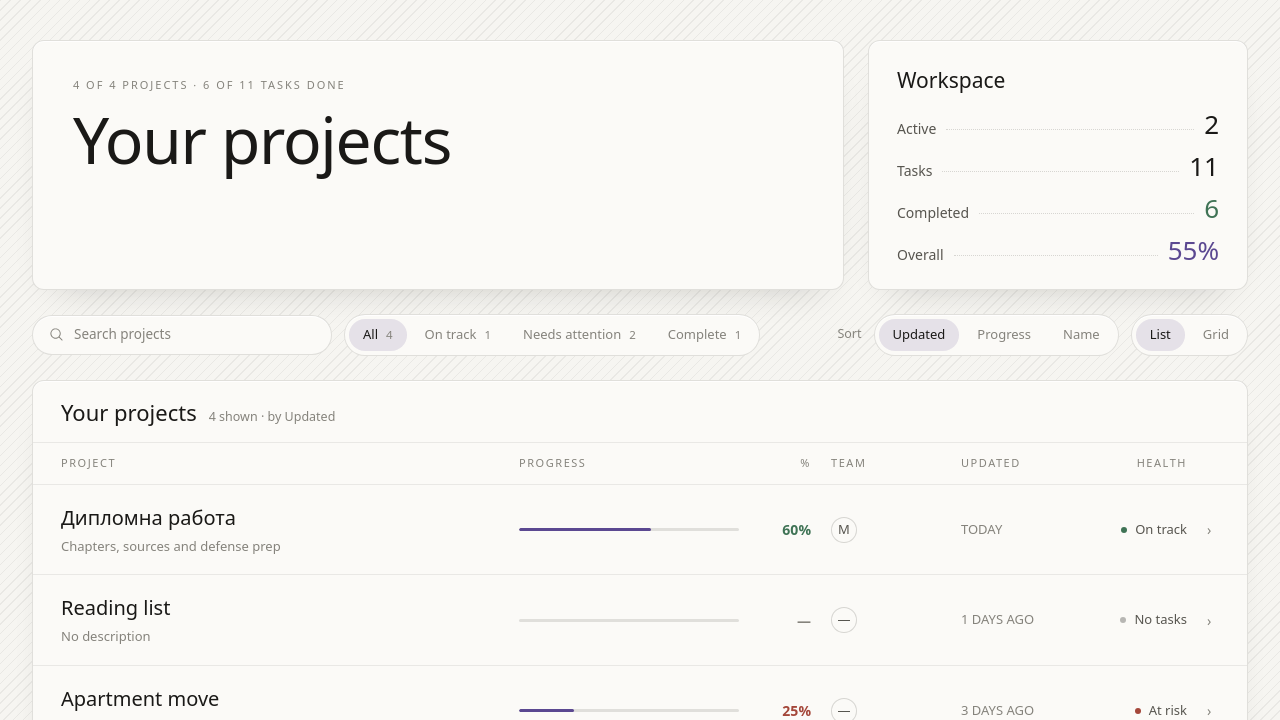
Test: ProjectsWorkspace — detail › opens a project in place and can go back
Click the button "Дипломна работа": [149, 517] box [61, 503, 499, 533]
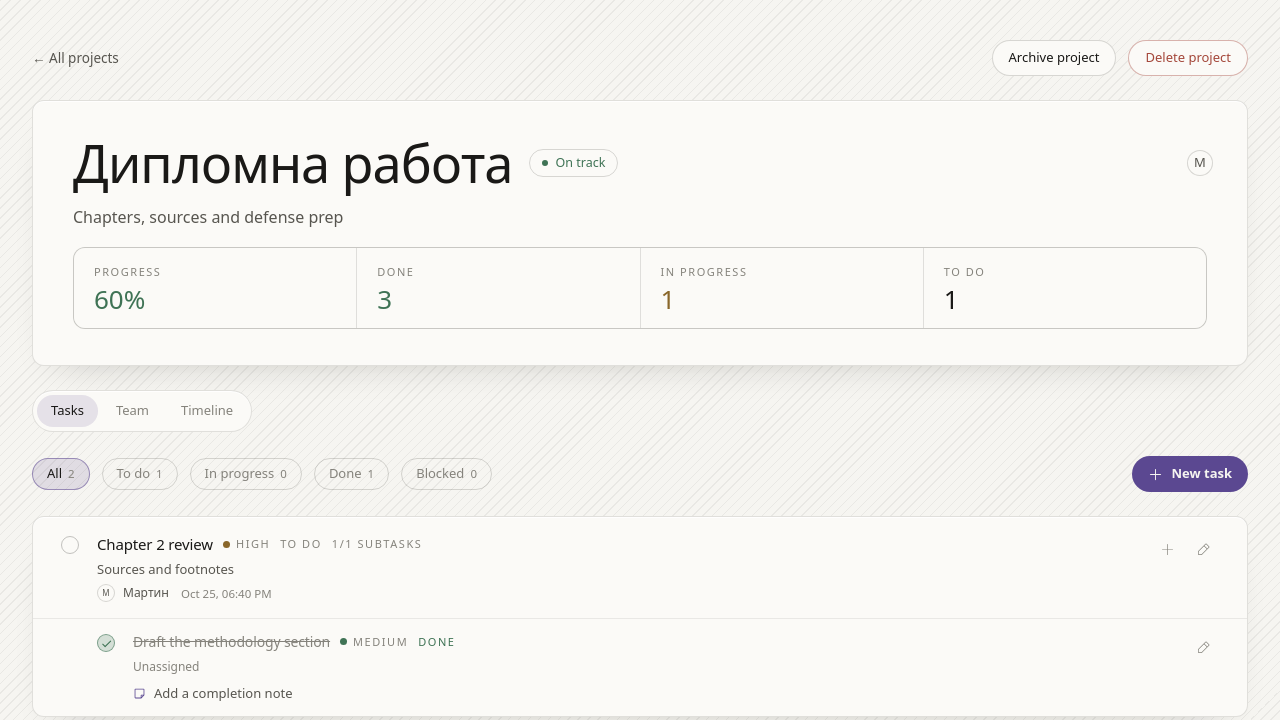
expect the heading "Дипломна работа" is shown: met, box [73, 137, 512, 189]
Click the button "← All projects": [75, 58] box [32, 48, 119, 68]
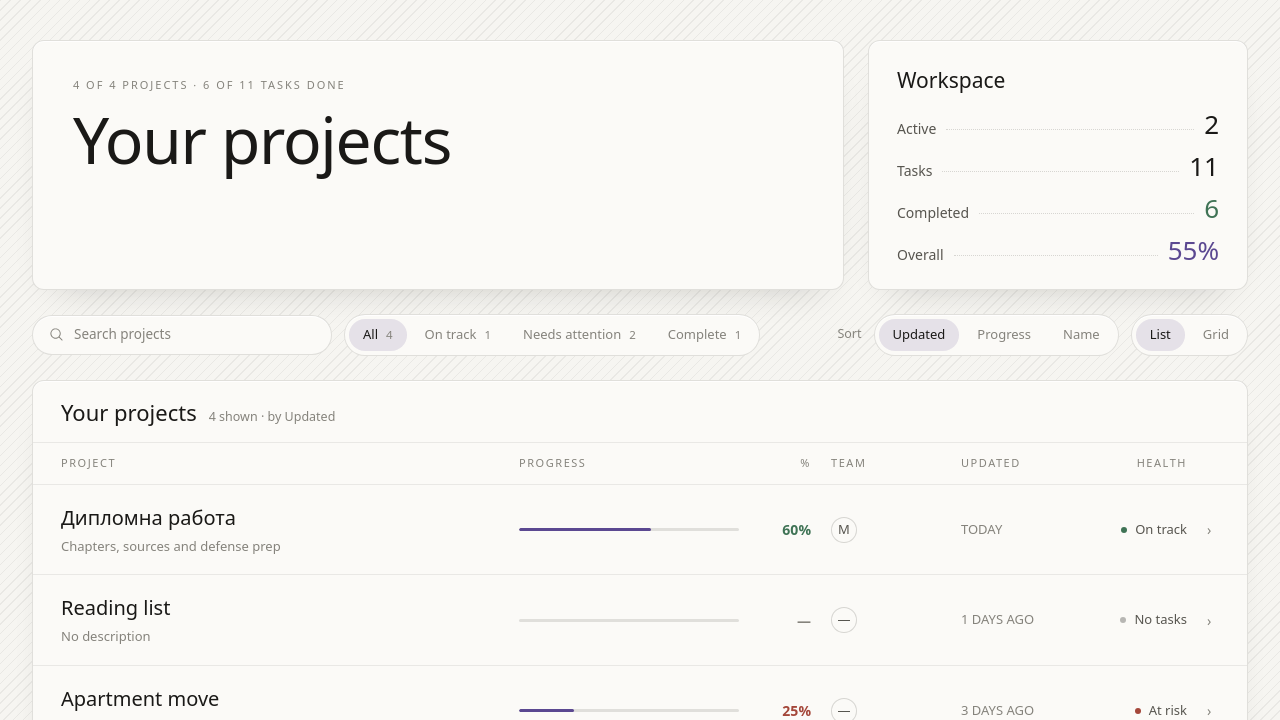
expect the heading "Your projects" below "4 of 4 projects · 6 of 11 tasks done" is shown: met, box [73, 96, 451, 182]
